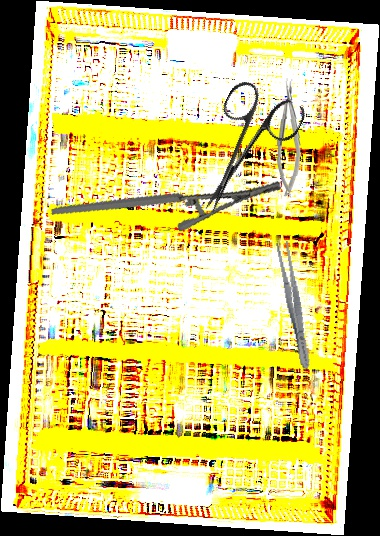Dressing Forceps: (273, 240, 315, 370)
Iris Scissors: (176, 74, 309, 230)
Needle Holder: (50, 131, 285, 264), (274, 77, 305, 199)
